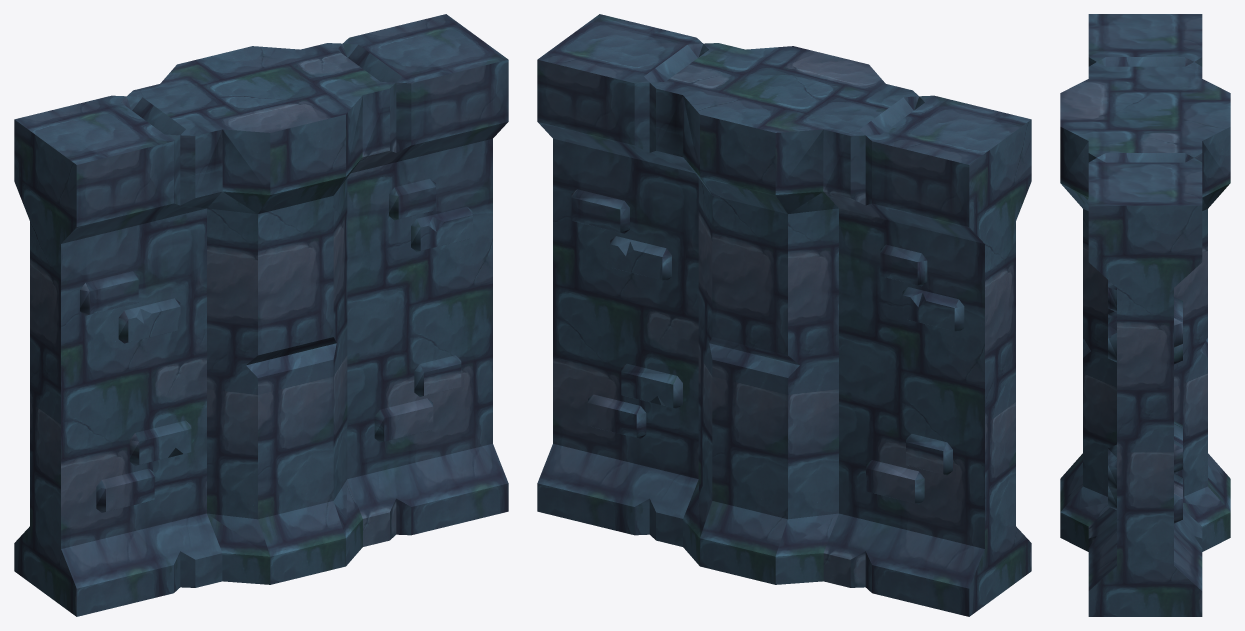
Rendered from wall_pillar.gltf.
3 renders of one model, left to right at view 1: azimuth 30°, elevation 25°; view 2: azimuth 150°, elevation 25°; view 3: azimuth 270°, elevation 25°, orthographic. The views are drawn at different scales.
Visible parts, largest first — view 1: wall_pillar; view 2: wall_pillar; view 3: wall_pillar.
Boxes of the visible parts, left/top/right/bottom form: wall_pillar: left=14, top=14, right=508, bottom=616; wall_pillar: left=537, top=14, right=1031, bottom=616; wall_pillar: left=1060, top=14, right=1230, bottom=616.
Bounding box in the file's own units: 4 × 4 × 1.5.
Materials: 1 (1 with a texture image).
